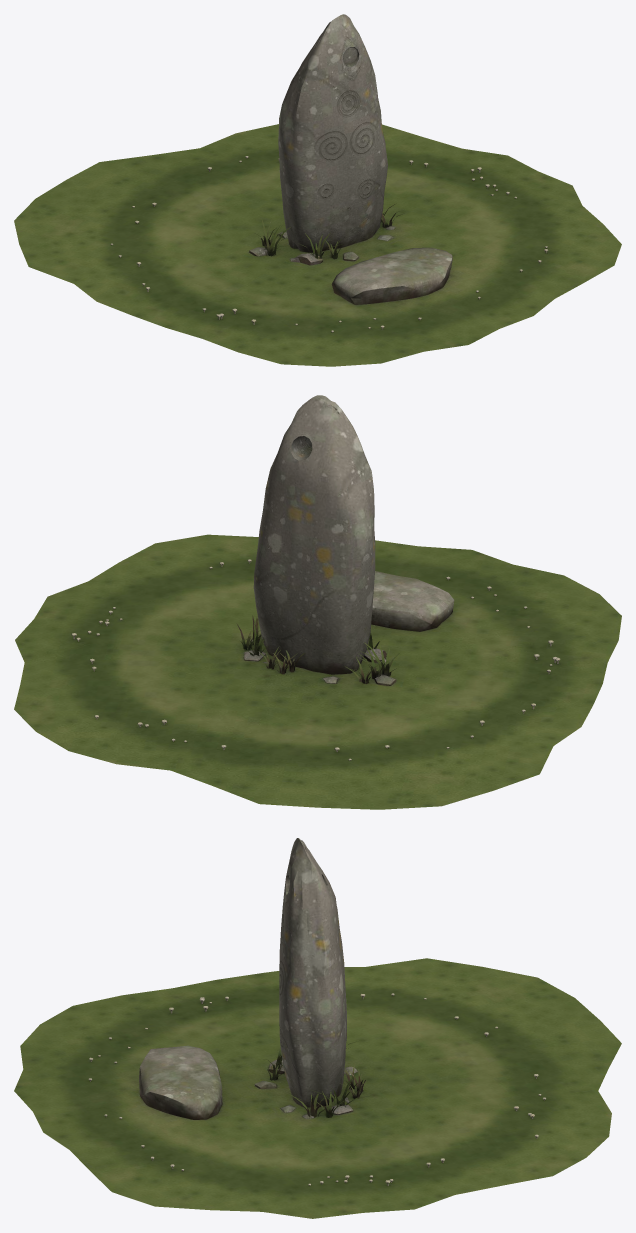
Rendered from ley_stone.glb.
The picture shows the model from 3 angles, top to bottom: view 1: azimuth 30°, elevation 25°; view 2: azimuth 150°, elevation 25°; view 3: azimuth 270°, elevation 25°; orthographic projection. The views are drawn at different scales.
Visible parts, largest first — view 1: ley_stone_LOD0; view 2: ley_stone_LOD0; view 3: ley_stone_LOD0.
Boxes of the visible parts, box(x1,y1,x2,y2) form: ley_stone_LOD0: box(14, 14, 621, 366); ley_stone_LOD0: box(14, 395, 621, 809); ley_stone_LOD0: box(14, 838, 621, 1218).
Size of what is drawn, in the model's own units: 7.2 by 3.27 by 7.1.
Materials: 1 (1 with a texture image).
